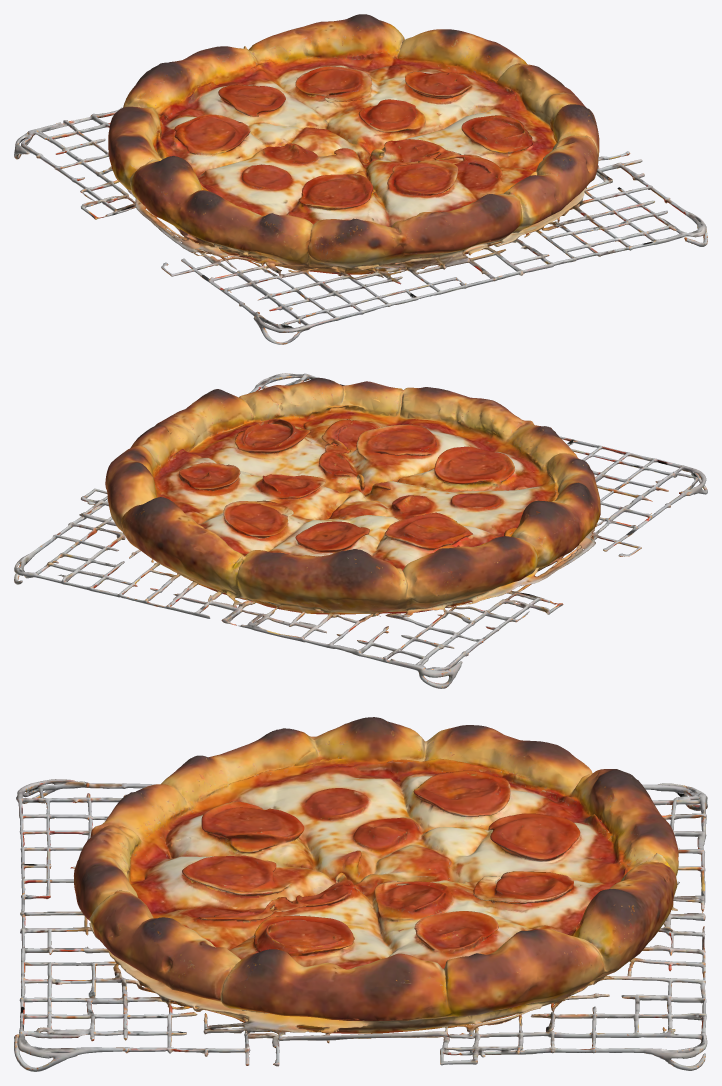
File: Detroit_Pizza.glb
The picture shows the model from 3 angles, top to bottom: view 1: azimuth 30°, elevation 25°; view 2: azimuth 150°, elevation 25°; view 3: azimuth 270°, elevation 25°; orthographic projection. The views are drawn at different scales.
Bounding box in the file's own units: 1.99 × 0.3581 × 2.
Materials: 1 (1 with a texture image).
